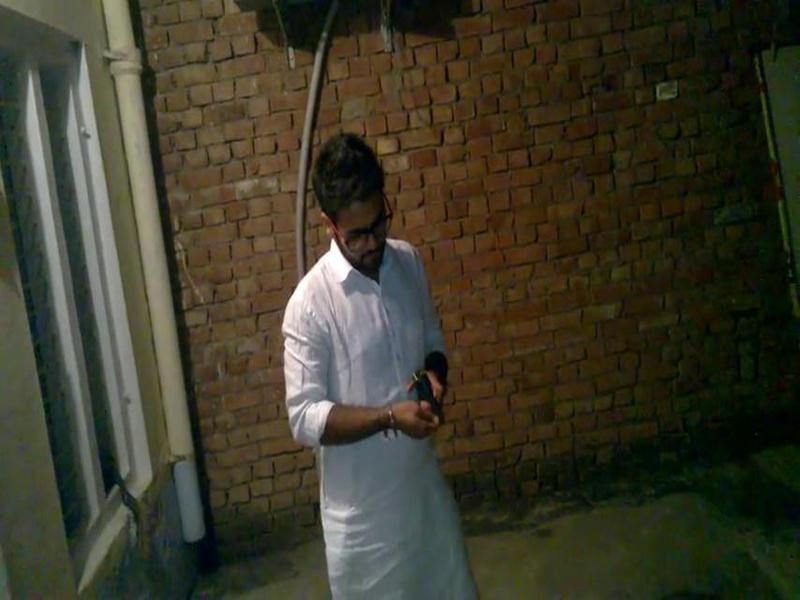Revolver: (389, 365, 460, 446)
